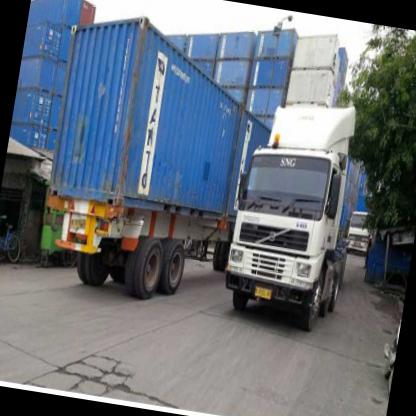truck: (220, 141, 349, 333)
